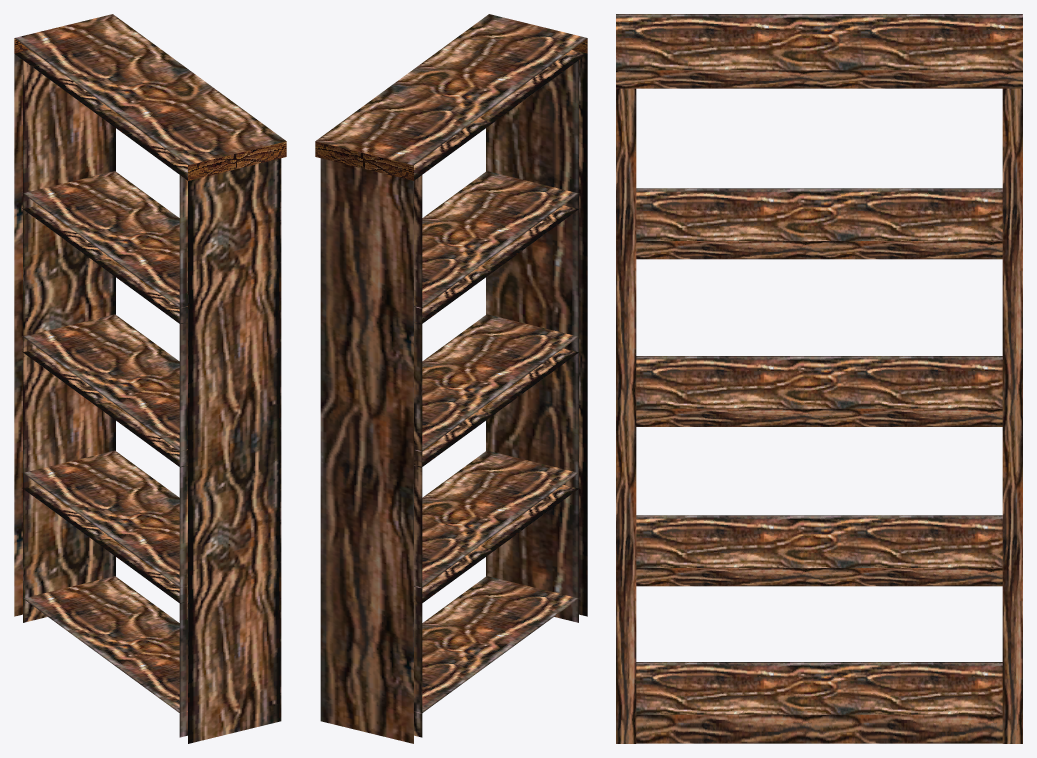
The model's file is INST_LT_SHELF.fbx.
The picture shows the model from 3 angles, left to right: view 1: azimuth 30°, elevation 25°; view 2: azimuth 150°, elevation 25°; view 3: azimuth 270°, elevation 25°; orthographic projection. The views are drawn at different scales.
Parts seen in each view (by area): view 1: INST_LT_SHELF; view 2: INST_LT_SHELF; view 3: INST_LT_SHELF.
Part boxes in pixels (box(x1,y1,x2,y2)): INST_LT_SHELF: box(14, 14, 286, 743); INST_LT_SHELF: box(315, 14, 587, 743); INST_LT_SHELF: box(616, 14, 1022, 743).
Bounding box in the file's own units: 3110 × 17438 × 9500.
Materials: 2 (2 with a texture image).
